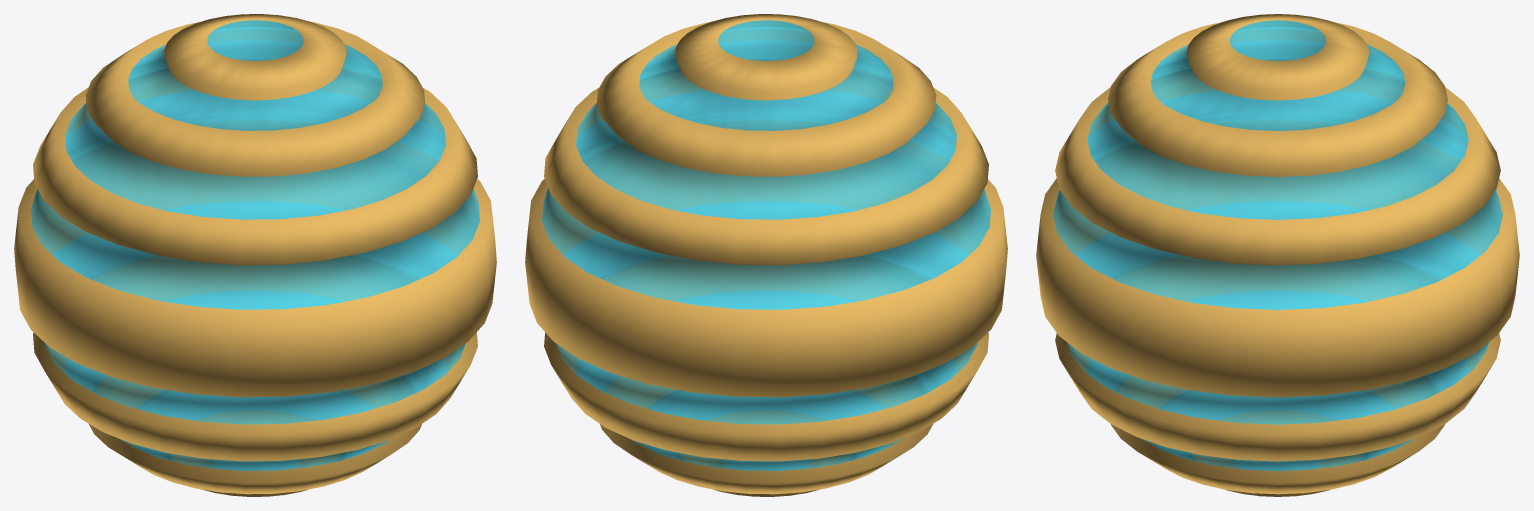
Rendered from Master Ball.glb.
The picture shows the model from 3 angles, left to right: view 1: azimuth 30°, elevation 25°; view 2: azimuth 150°, elevation 25°; view 3: azimuth 270°, elevation 25°; orthographic projection.
Visible parts, largest first — view 1: Master Ball.001; view 2: Master Ball.001; view 3: Master Ball.001.
Boxes of the visible parts, <box> form: Master Ball.001: <box>14,14,496,496</box>; Master Ball.001: <box>525,14,1007,496</box>; Master Ball.001: <box>1036,14,1519,496</box>.
Size of the model in its own units: 0.1265 by 0.1239 by 0.1265.
